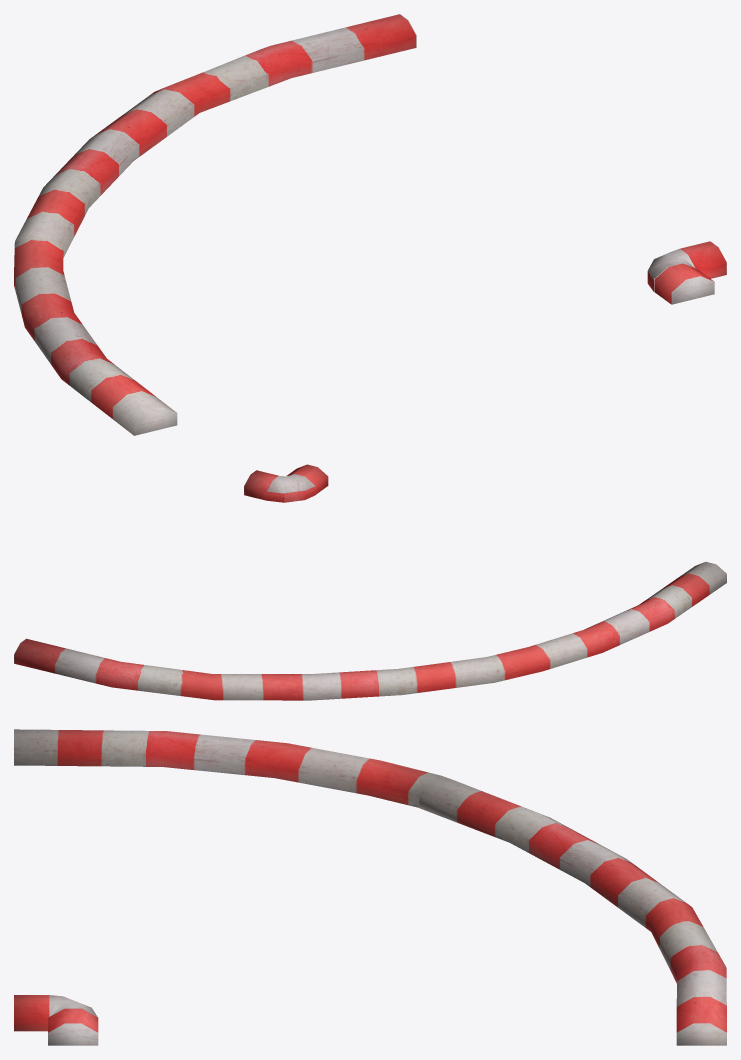
The model's file is crub_track_turn_right.fbx.
3 views of the same model, one above another, from view 1: azimuth 30°, elevation 25°; view 2: azimuth 150°, elevation 25°; view 3: azimuth 270°, elevation 25° (orthographic). The views are drawn at different scales.
Visible parts, largest first — view 1: curb_track_right; view 2: curb_track_right; view 3: curb_track_right.
Part boxes in pixels (x1,y1,x2,y2): curb_track_right: [14, 14, 726, 435]; curb_track_right: [14, 464, 726, 700]; curb_track_right: [14, 729, 726, 1045].
Bounding box in the file's own units: 190 × 6.43 × 190.
